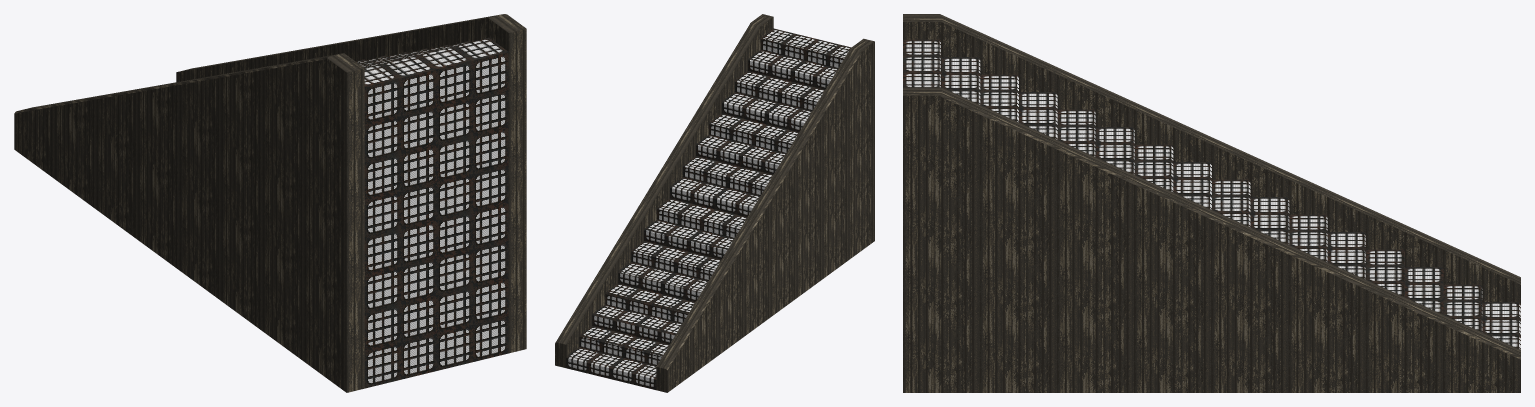
The model's file is staircase_rusty.obj.
3 renders of one model, left to right at view 1: azimuth 30°, elevation 25°; view 2: azimuth 150°, elevation 25°; view 3: azimuth 270°, elevation 25°, orthographic. The views are drawn at different scales.
Visible parts, largest first — view 1: stairs_right, staircase_rusty, stairs_left; view 2: staircase_rusty, stairs_right, stairs_left; view 3: stairs_left, staircase_rusty, stairs_right.
Boxes of the visible parts, <box> form: stairs_right: <box>14,53,364,392</box>; staircase_rusty: <box>355,37,508,388</box>; stairs_left: <box>176,14,526,353</box>; staircase_rusty: <box>566,28,851,389</box>; stairs_right: <box>656,38,874,392</box>; stairs_left: <box>555,14,773,367</box>; stairs_left: <box>903,87,1520,392</box>; staircase_rusty: <box>903,39,1520,349</box>; stairs_right: <box>903,14,1520,303</box>.
Bounding box in the file's own units: 10 × 17 × 32.
